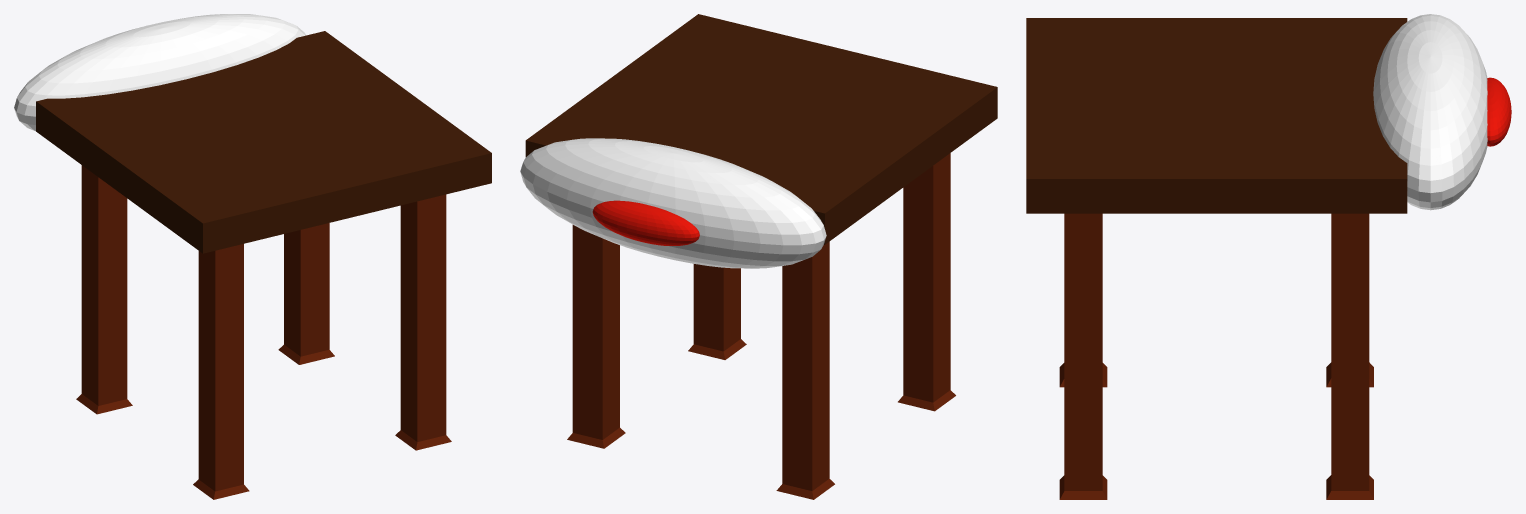
The model's file is tabel.fbx.
The picture shows the model from 3 angles, left to right: view 1: azimuth 30°, elevation 25°; view 2: azimuth 150°, elevation 25°; view 3: azimuth 270°, elevation 25°; orthographic projection. The views are drawn at different scales.
Parts seen in each view (by area): view 1: Sphere.001; view 2: Sphere.001; view 3: Sphere.001.
Boxes of the visible parts, bbox=[...] form: Sphere.001: bbox=[14, 14, 491, 499]; Sphere.001: bbox=[520, 14, 997, 499]; Sphere.001: bbox=[1026, 14, 1511, 499].
Size of the model in its own units: 279 by 291 by 344.
